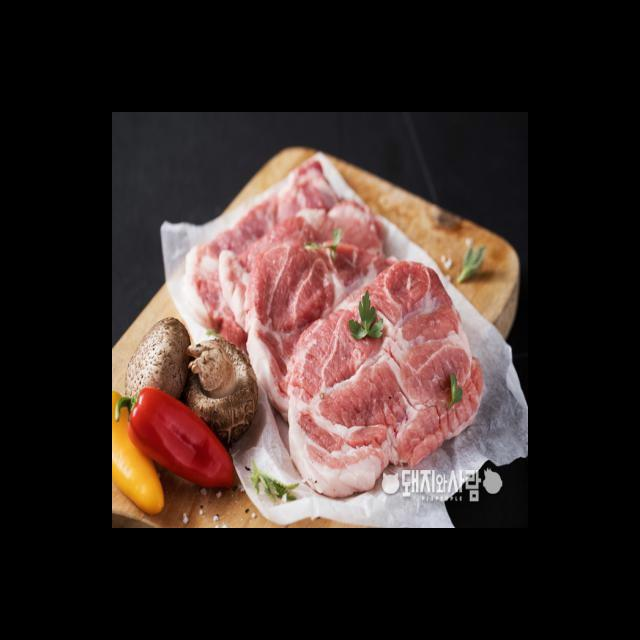pork: (200, 208, 490, 472)
